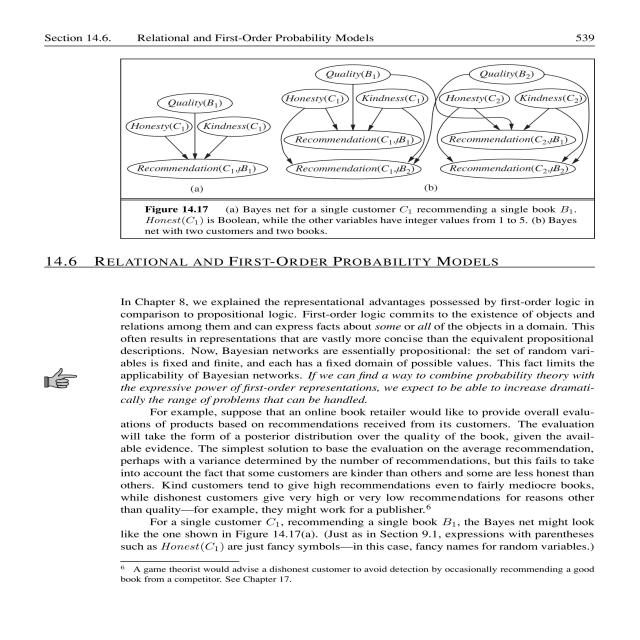diagram: (86, 53, 627, 245)
